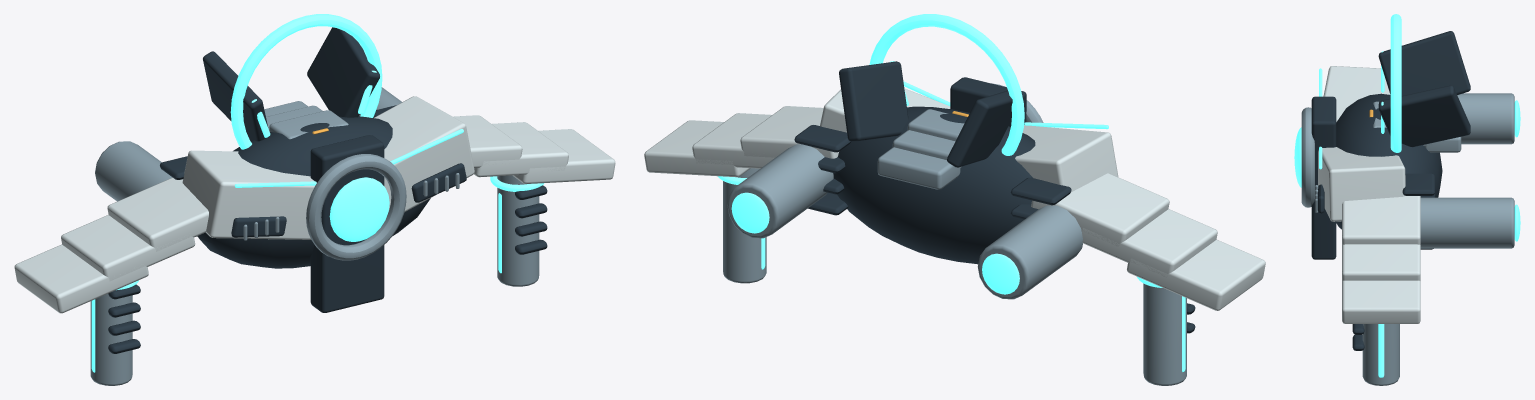
File: leviathan.glb
The picture shows the model from 3 angles, left to right: view 1: azimuth 30°, elevation 25°; view 2: azimuth 150°, elevation 25°; view 3: azimuth 270°, elevation 25°; orthographic projection. The views are drawn at different scales.
Parts seen in each view (by area): view 1: Faceted glacier prow, Armored manta hull, Central carbon keel, Faceted glacier prow.001, Manta layered wing, Manta layered wing.002, Cryo reactor aperture, Manta layered wing.001, Swept dorsal fin.001, ReactorRotor, Siege lance.001, CoreSocket (+9 smaller); view 2: Armored manta hull, Rear ion nacelle, Manta layered wing.002, Rear ion nacelle.001, Manta layered wing, Faceted glacier prow, Swept dorsal fin.001, Manta layered wing.001, Siege lance, ReactorRotor, Manta layered wing.005, Swept dorsal fin (+13 smaller); view 3: Rear ion nacelle.001, Faceted glacier prow.001, Armored manta hull, Swept dorsal fin, Manta layered wing.003, Swept dorsal fin.001, Manta layered wing.005, Manta layered wing.004, Rear ion nacelle, Central carbon keel, Faceted glacier prow, Siege lance.001 (+9 smaller).
Part boxes in pixels (x1,y1,x2,y2): Faceted glacier prow: (182, 150, 315, 239); Armored manta hull: (197, 116, 430, 268); Central carbon keel: (310, 135, 384, 312); Faceted glacier prow.001: (374, 96, 474, 212); Manta layered wing: (107, 177, 208, 251); Manta layered wing.002: (14, 244, 148, 313); Cryo reactor aperture: (306, 154, 406, 260); Manta layered wing.001: (61, 215, 195, 281); Swept dorsal fin.001: (307, 27, 379, 117); ReactorRotor: (230, 14, 382, 149); Siege lance.001: (497, 175, 539, 286); CoreSocket: (329, 177, 389, 241); Armored manta hull: (833, 106, 1035, 264); Rear ion nacelle: (977, 205, 1082, 299); Manta layered wing.002: (1127, 239, 1265, 310); Rear ion nacelle.001: (727, 144, 833, 238); Manta layered wing: (1031, 173, 1169, 246); Faceted glacier prow: (1015, 125, 1118, 192); Swept dorsal fin.001: (839, 61, 908, 141); Manta layered wing.001: (1082, 209, 1217, 277); Siege lance: (1143, 283, 1186, 385); ReactorRotor: (869, 14, 1024, 155); Manta layered wing.005: (644, 120, 750, 177); Swept dorsal fin: (947, 90, 1012, 167); Rear ion nacelle.001: (1420, 197, 1514, 248); Faceted glacier prow.001: (1318, 147, 1405, 221); Armored manta hull: (1336, 93, 1442, 229); Swept dorsal fin: (1378, 31, 1470, 95); Manta layered wing.003: (1342, 196, 1420, 244); Swept dorsal fin.001: (1378, 85, 1470, 147); Manta layered wing.005: (1342, 280, 1420, 323); Manta layered wing.004: (1342, 244, 1420, 280); Rear ion nacelle: (1457, 93, 1514, 144); Central carbon keel: (1311, 96, 1336, 259); Faceted glacier prow: (1323, 66, 1390, 121); Siege lance.001: (1362, 324, 1399, 385).
Bounding box in the file's own units: 5.78 × 3.02 × 2.29.
